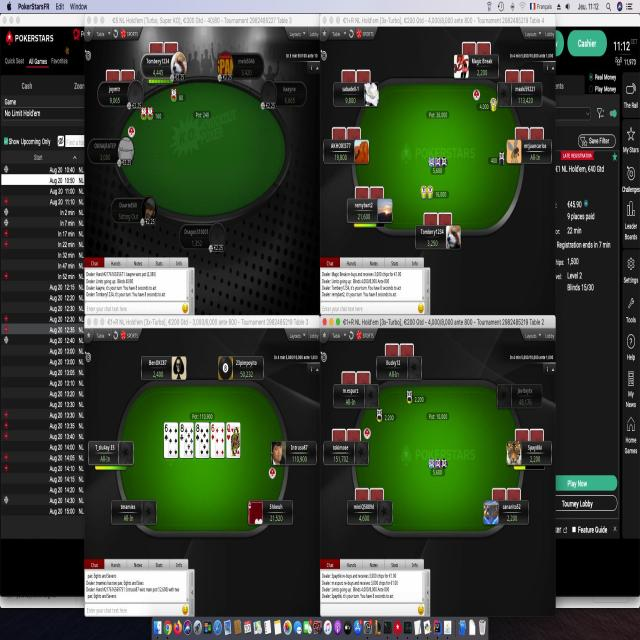6D: (210, 422, 216, 442)
6S: (163, 421, 169, 442)
8C: (179, 419, 185, 442)
8S: (194, 422, 202, 442)
QH: (226, 423, 230, 442)
